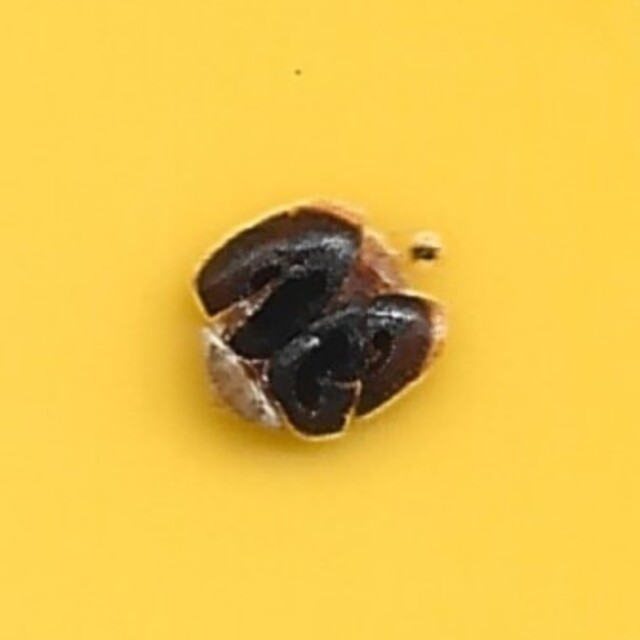Coleoptera: (190, 193, 450, 447)
